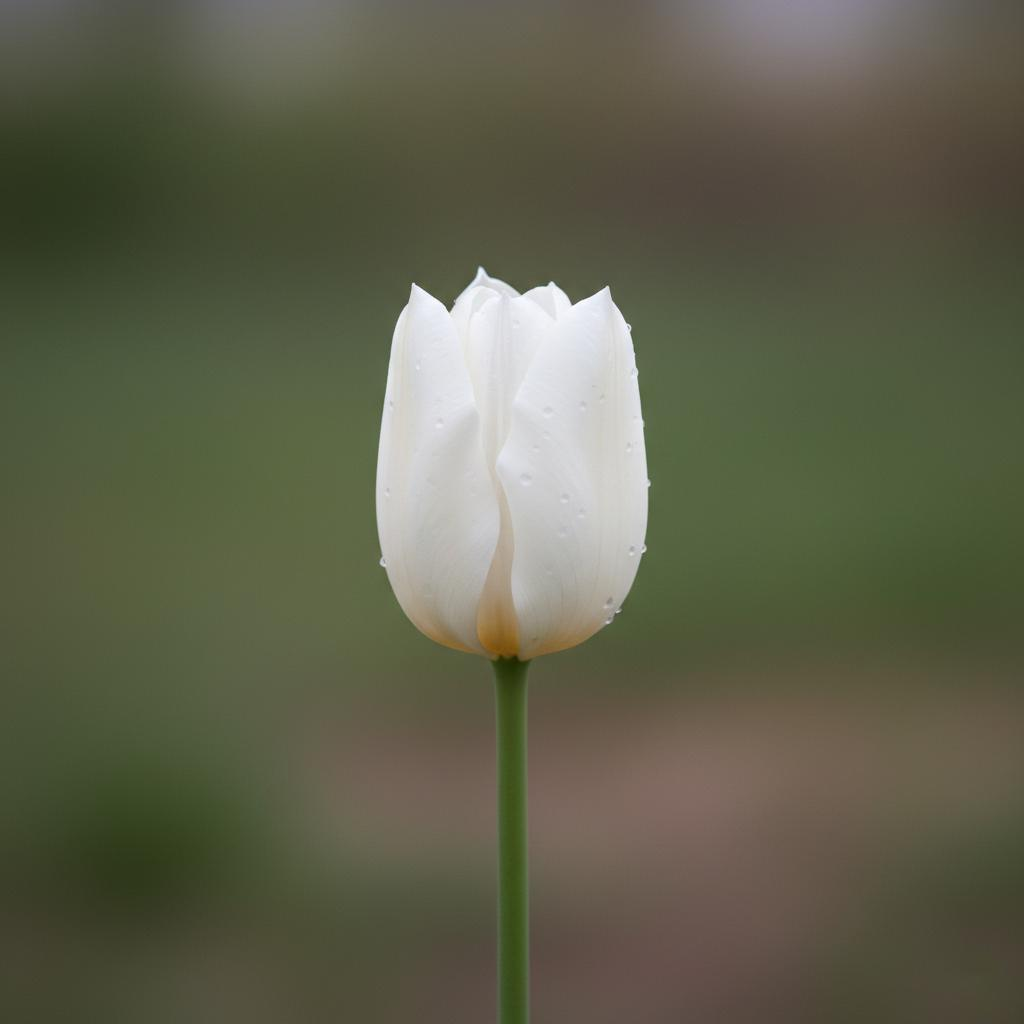tulip: (373, 264, 651, 665)
